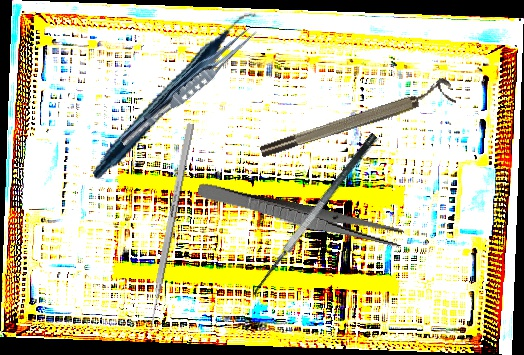Dressing Forceps: (195, 180, 405, 251)
Fixation Ring: (255, 75, 457, 162)
Handpiece: (68, 10, 283, 181)
Pusher: (144, 122, 195, 342)
Spatula Surgical: (244, 131, 392, 305)
Tissue Forceps: (115, 18, 262, 154)
